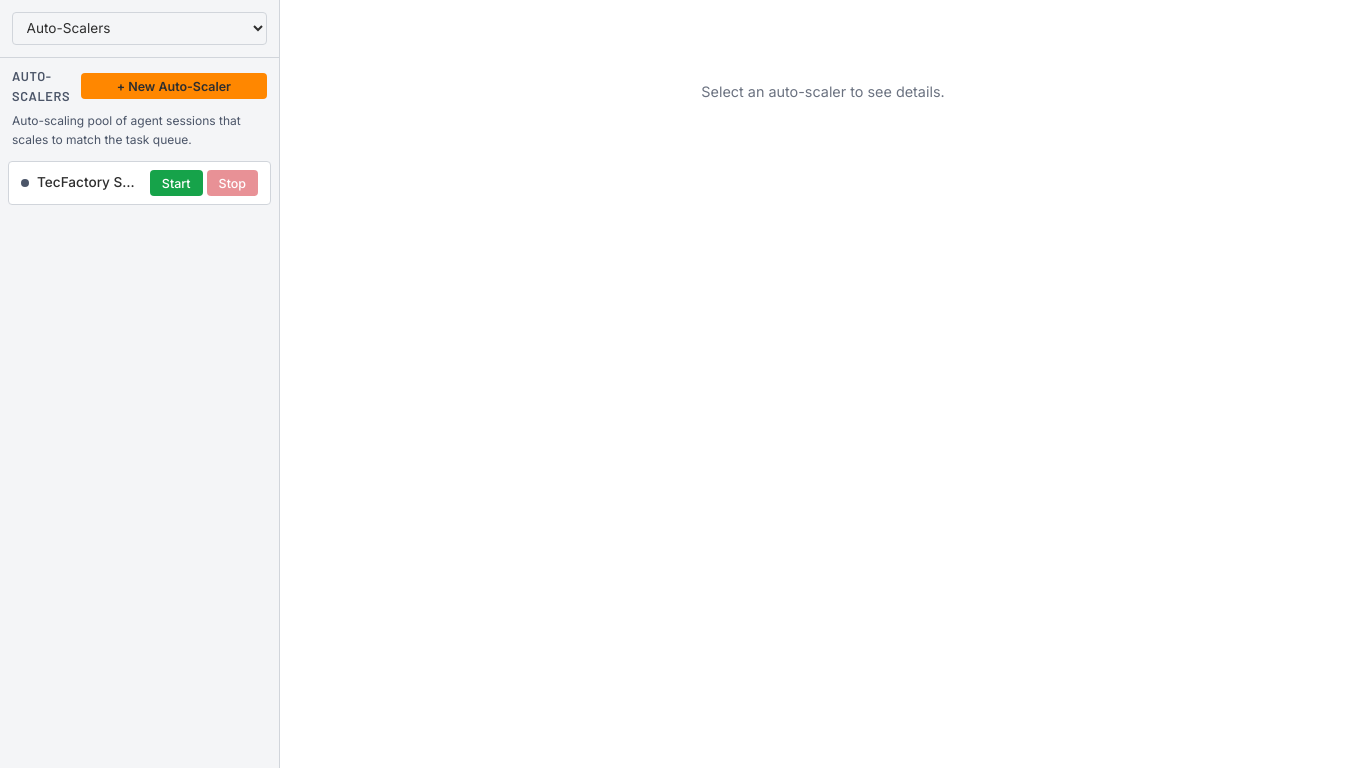
Test: AutoScalerPanel — tab scoping › clears the selected auto-scaler when switching to a tab it does not belong to
Select the TecFactory scaler (tab 1)
Step 1. Click the button "TecFactory Scaler Start Stop" → (140, 183), box [8,161,271,205]
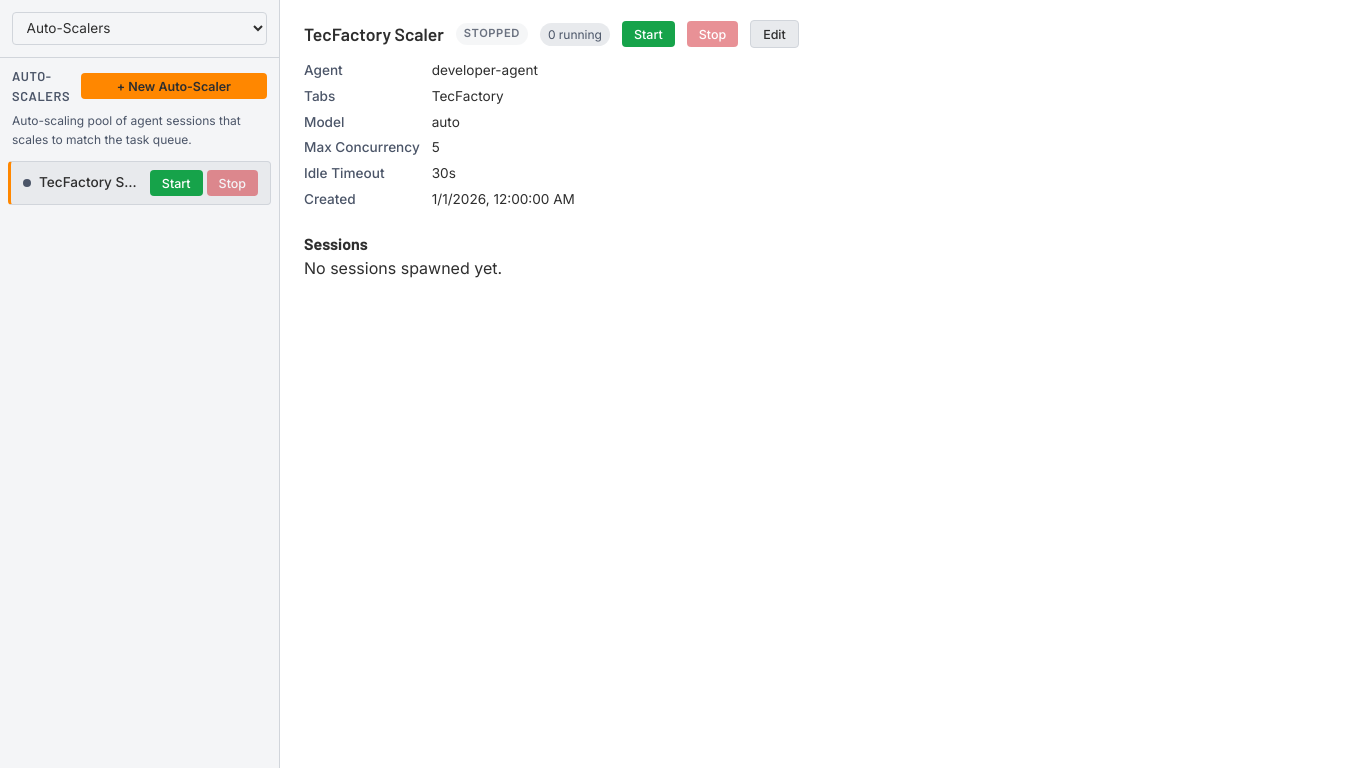
Check: the element with test id "autoscaler-detail-panel" is shown, box [304,20,799,278]
